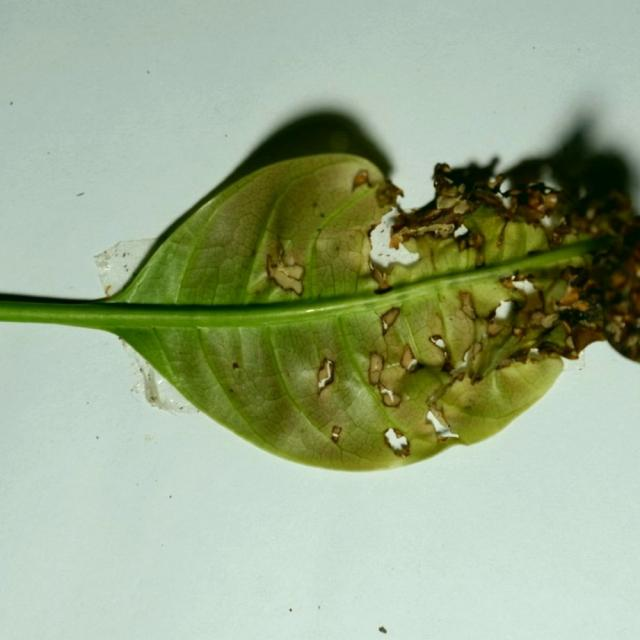Anthracnose: (311, 282, 475, 456), (411, 164, 572, 254), (250, 183, 320, 305), (566, 287, 609, 339), (502, 279, 544, 324), (375, 176, 404, 209), (246, 262, 272, 295), (352, 169, 371, 191)
Mango: (0, 108, 639, 475)
